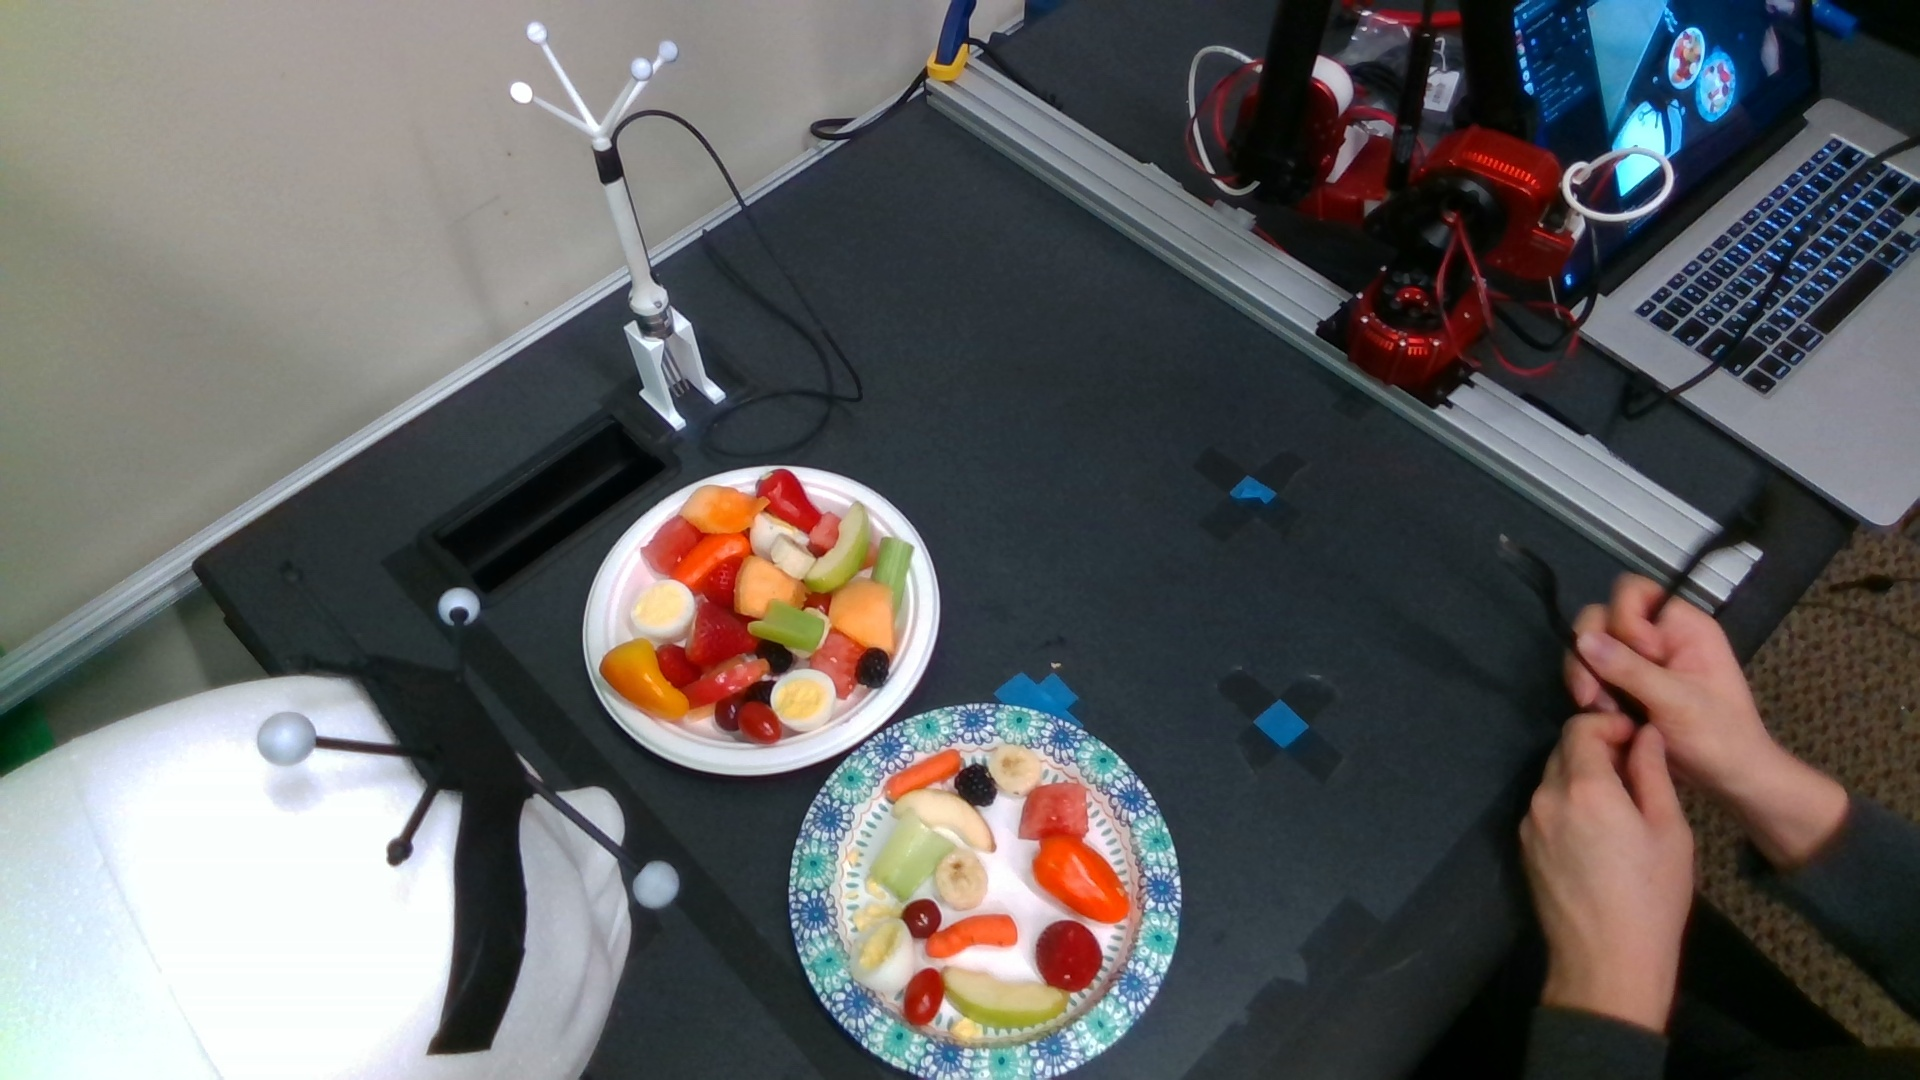apple: (943, 965, 1068, 1029), (891, 790, 996, 853), (806, 500, 870, 593), (680, 659, 769, 709)
banana: (936, 851, 988, 910), (989, 746, 1040, 795)
bell_pepper: (1033, 837, 1131, 924), (599, 640, 688, 723), (670, 531, 752, 596), (756, 468, 823, 531)
blackberry: (955, 764, 997, 807), (856, 647, 891, 688)
cantalope: (828, 578, 894, 655), (680, 485, 767, 534), (735, 558, 804, 616)
carrot: (885, 750, 963, 802), (927, 914, 1018, 957)
celery: (872, 811, 957, 901), (749, 601, 824, 650), (872, 537, 916, 618)
cherry_tomato: (905, 968, 945, 1026), (738, 702, 781, 744)
egg: (851, 918, 915, 993), (769, 669, 833, 732), (632, 582, 694, 640)
grape: (903, 899, 942, 939)
melon: (1019, 785, 1088, 843), (642, 516, 702, 575)
plate: (789, 705, 1179, 1080), (584, 465, 939, 775)
strawberry: (1034, 922, 1102, 992), (686, 603, 756, 667)
